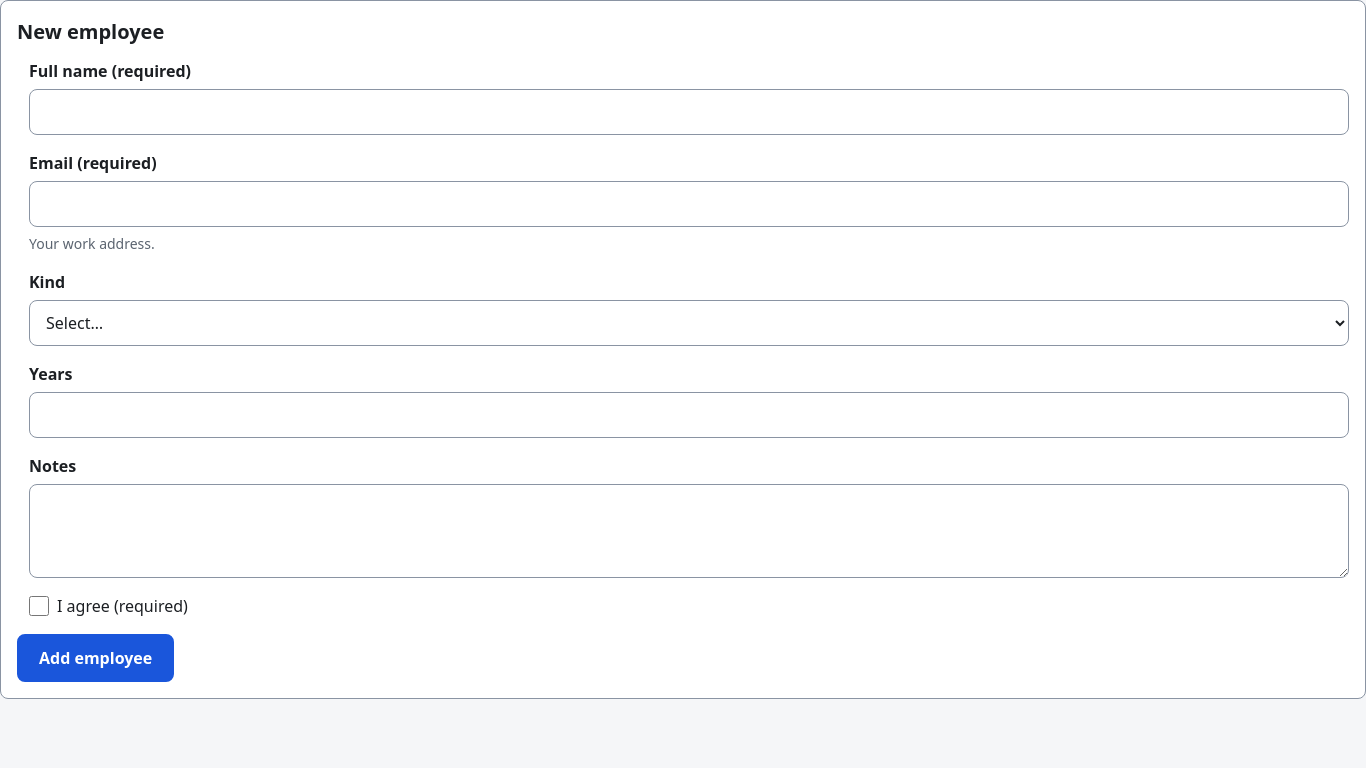
Test: Form: when a field is checked › checks the field when focus leaves it
Type "A" into the field labelled "Full name" at coordinates (689, 112), box x1=29 y1=89 x2=1349 y2=135
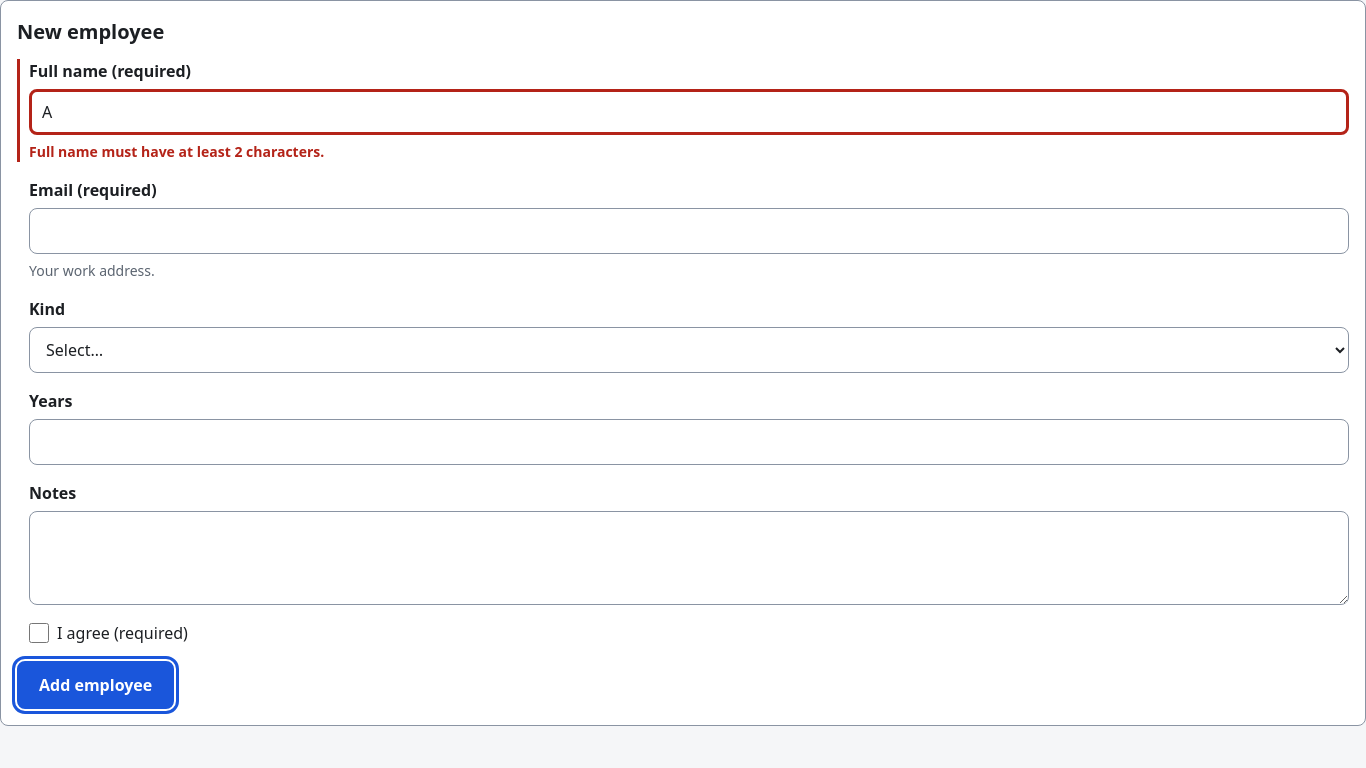
Expected: the text "Full name must have at least 2 characters." is shown, x1=29 y1=142 x2=324 y2=161
